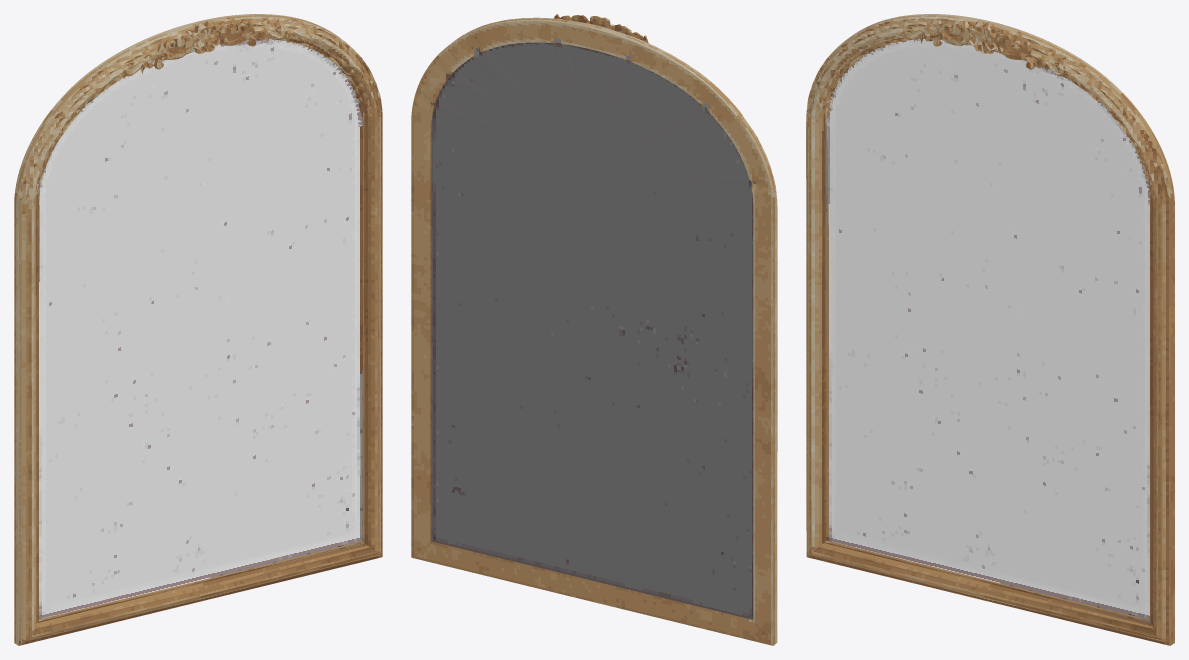
File: ornate_mirror_01.glb
3 views of the same model, side by side, from view 1: azimuth 30°, elevation 25°; view 2: azimuth 150°, elevation 25°; view 3: azimuth 330°, elevation 25° (orthographic).
Parts seen in each view (by area): view 1: mesh; view 2: mesh; view 3: mesh.
Boxes of the visible parts, x1,y1,x2,y2 form: mesh: (14, 14, 382, 645); mesh: (411, 14, 777, 645); mesh: (806, 14, 1174, 645).
Bounding box in the file's own units: 19.47 × 29.77 × 1.07.
1 material, 1 textured.
